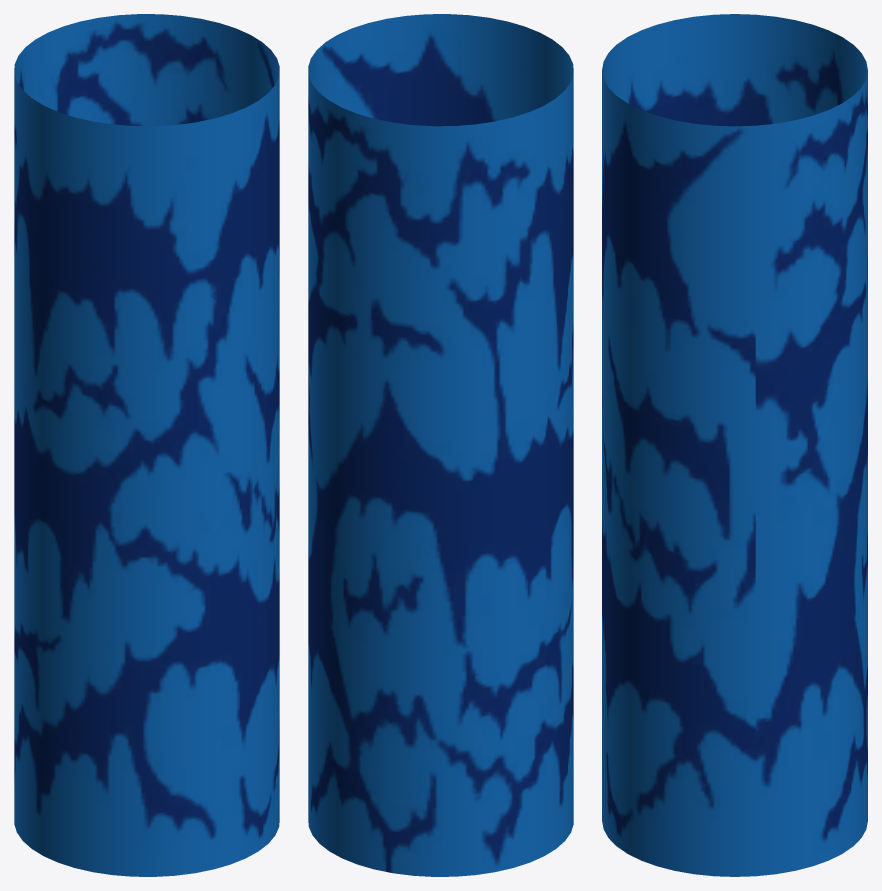
The model's file is Tak.fbx.
The picture shows the model from 3 angles, left to right: view 1: azimuth 30°, elevation 25°; view 2: azimuth 150°, elevation 25°; view 3: azimuth 270°, elevation 25°; orthographic projection.
Visible parts, largest first — view 1: SM_e_Skl_Wa_8Tak_Splash001.001; view 2: SM_e_Skl_Wa_8Tak_Splash001.001; view 3: SM_e_Skl_Wa_8Tak_Splash001.001.
Boxes of the visible parts, <box> form: SM_e_Skl_Wa_8Tak_Splash001.001: <box>14,14,279,876</box>; SM_e_Skl_Wa_8Tak_Splash001.001: <box>308,14,573,876</box>; SM_e_Skl_Wa_8Tak_Splash001.001: <box>602,14,867,876</box>.
Size of the model in its own units: 184 by 571 by 184.
1 material, 1 textured.
